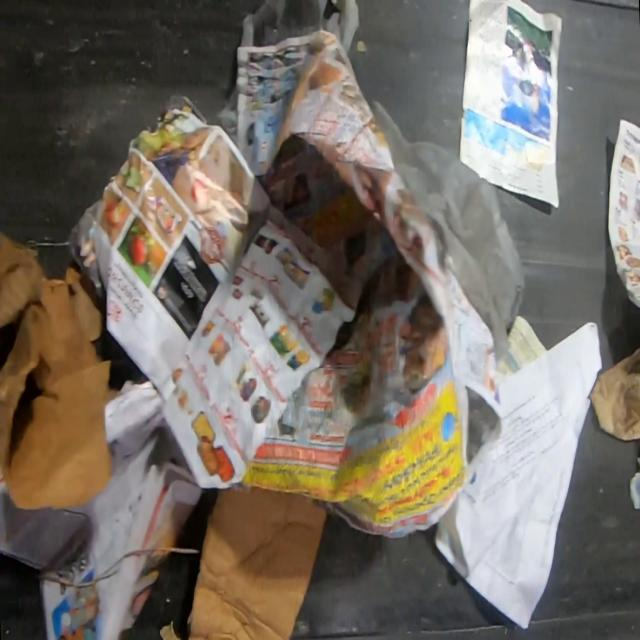cardboard: (0, 233, 118, 510), (188, 479, 328, 639)
soft_plastic: (370, 100, 525, 374), (240, 0, 360, 58)
